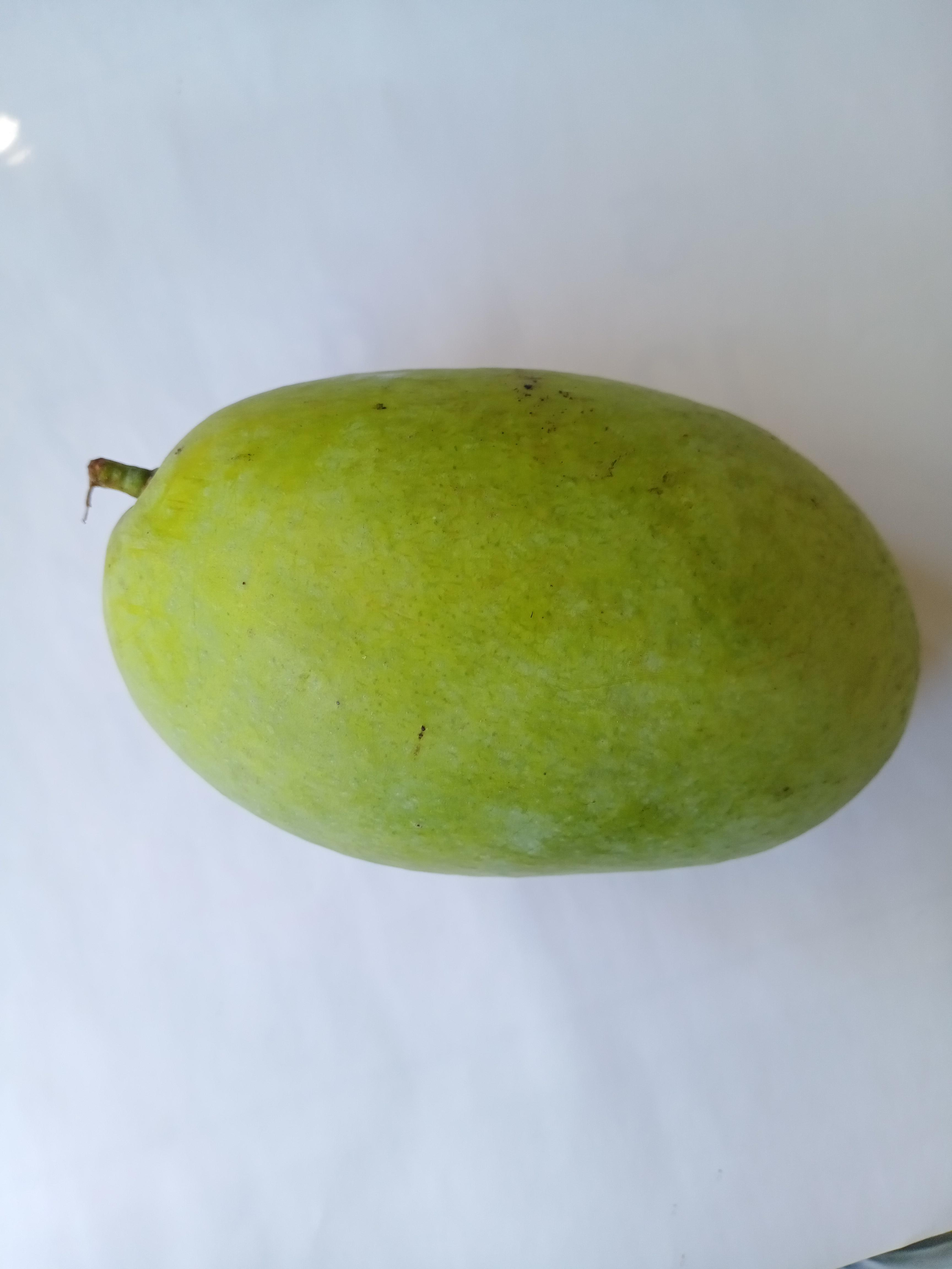Mango Unripe: (61, 349, 933, 895)
